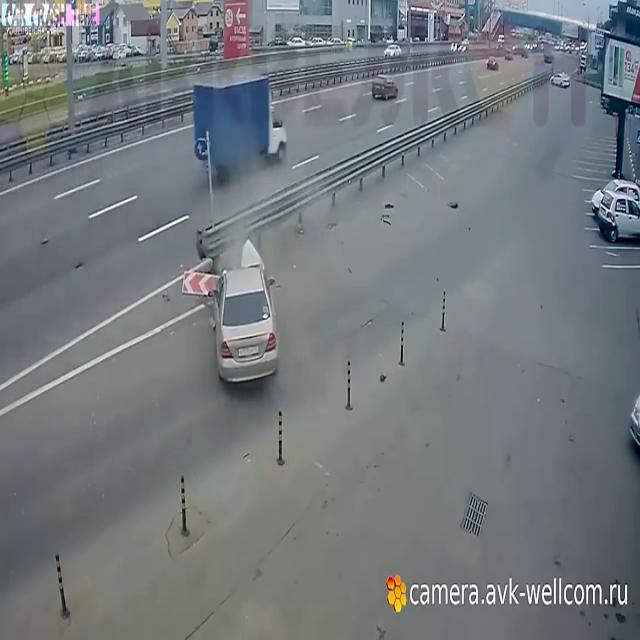Accident: (146, 186, 332, 428)
